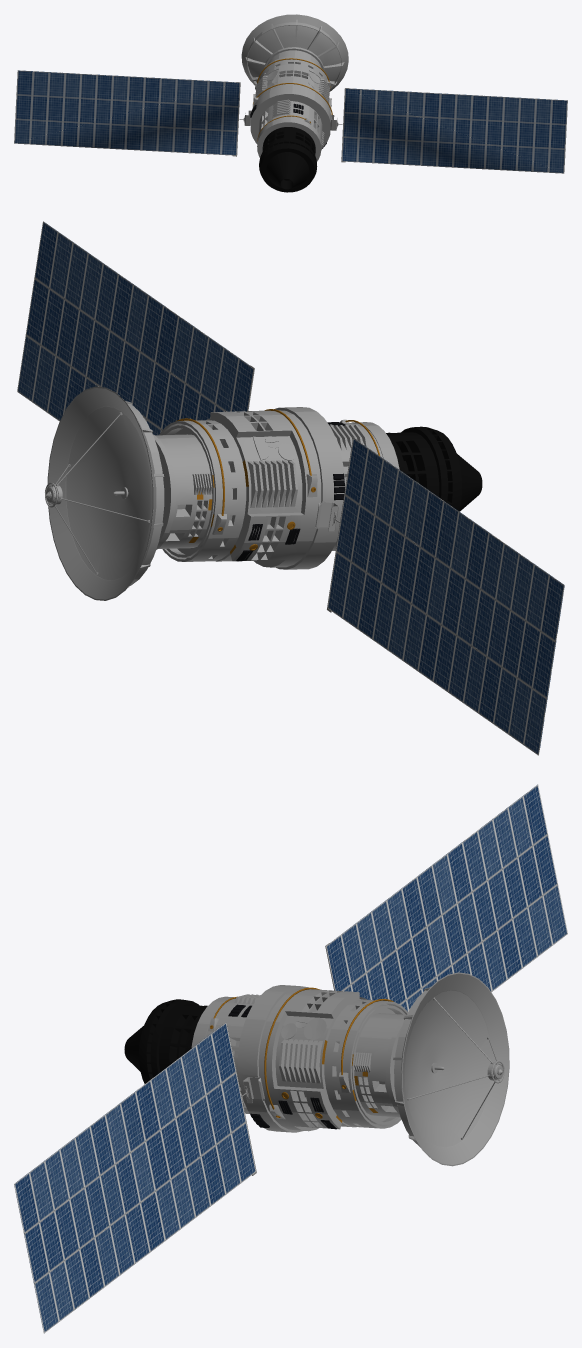
3 renders of one model, top to bottom at view 1: azimuth 30°, elevation 25°; view 2: azimuth 150°, elevation 25°; view 3: azimuth 270°, elevation 25°, orthographic. The views are drawn at different scales.
Parts seen in each view (by area): view 1: root; view 2: root; view 3: root.
Part boxes in pixels (<box>): root: <box>14,14,567,192</box>; root: <box>17,221,564,755</box>; root: <box>14,784,567,1333</box>.
Size of the model in its own units: 0.3664 by 0.1007 by 0.2369.
7 materials, 1 textured.
